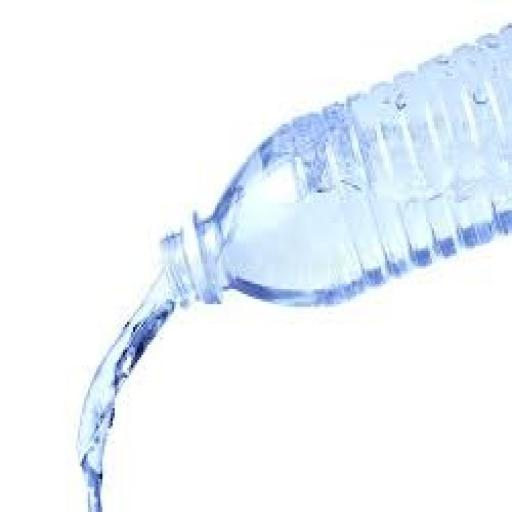bottle: (131, 12, 512, 320)
